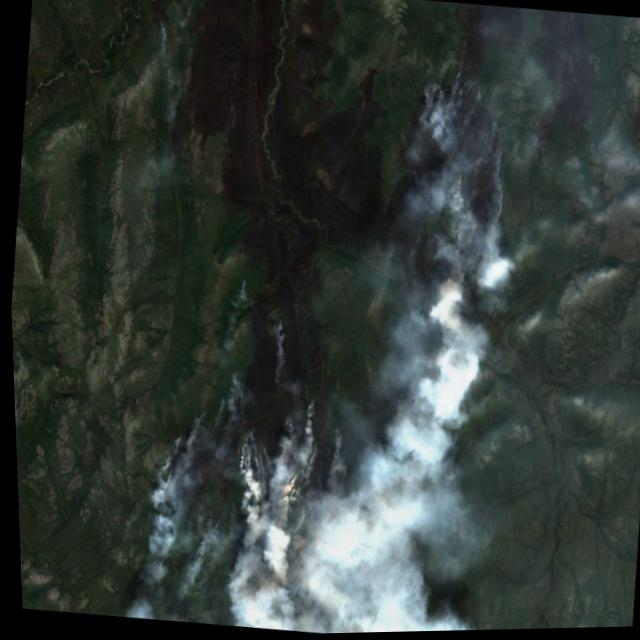fire: (221, 412, 281, 480), (157, 393, 213, 465), (416, 62, 485, 119), (486, 141, 511, 212), (441, 163, 478, 205), (266, 313, 289, 359), (325, 419, 347, 456), (221, 365, 242, 402), (229, 273, 251, 303), (296, 389, 316, 421)
